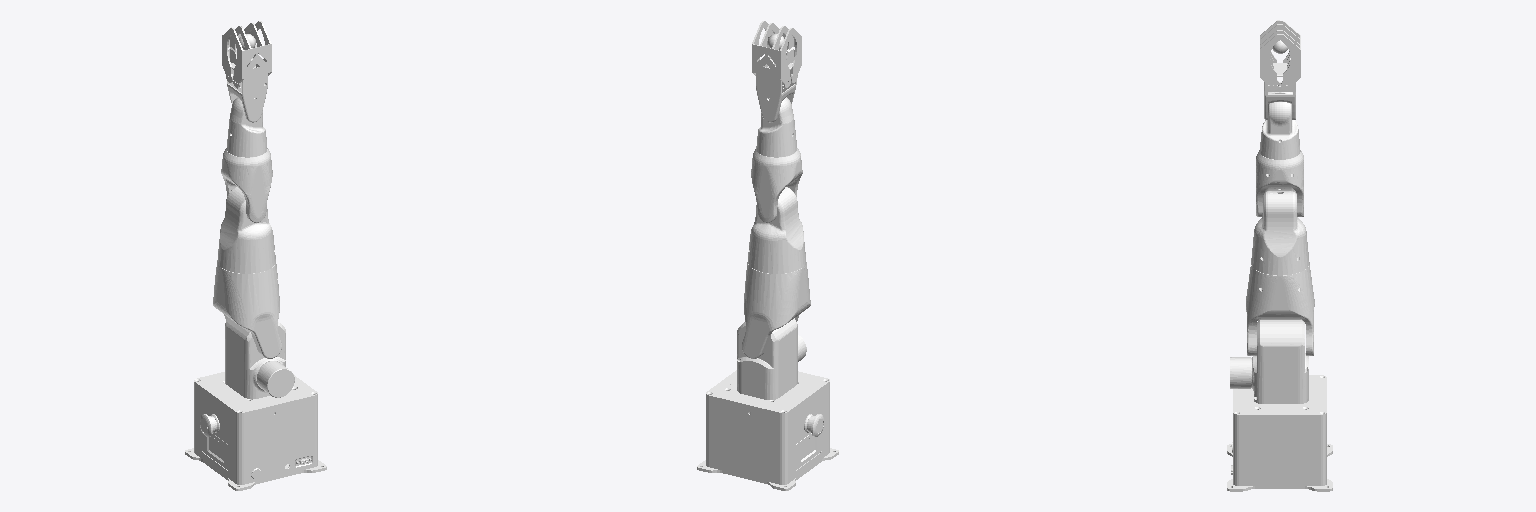
URDF robot description (darm):
<?xml version="1.0" encoding="utf-8"?>
<!-- This URDF was automatically created by SolidWorks to URDF Exporter! Originally created by [author] ([email redacted]) 
     Commit Version: 1.5.1-0-g916b5db  Build Version: 1.5.7152.31018
     For more information, please see http://wiki.ros.org/sw_urdf_exporter -->
<robot
  name="darm">
  <link
    name="base_link">
    <inertial>
      <origin
        xyz="-0.0170438376621442 -0.00161939260033202 0.0724948120416346"
        rpy="0 0 0" />
      <mass
        value="0.553260236209975" />
      <inertia
        ixx="0.0026064369657739"
        ixy="-3.75417322493413E-06"
        ixz="-0.000130251544119884"
        iyy="0.0030374528540518"
        iyz="-6.38538659319183E-05"
        izz="0.00326639522571418" />
    </inertial>
    <visual>
      <origin
        xyz="0 0 0"
        rpy="0 0 0" />
      <geometry>
        <mesh
          filename="package://darm/meshes/base_link.STL" />
      </geometry>
      <material
        name="">
        <color
          rgba="1 1 1 1" />
      </material>
    </visual>
    <collision>
      <origin
        xyz="0 0 0"
        rpy="0 0 0" />
      <geometry>
        <mesh
          filename="package://darm/meshes/base_link.STL" />
      </geometry>
    </collision>
  </link>
  <link
    name="arm_link1">
    <inertial>
      <origin
        xyz="-0.000128118597624595 -0.013600859873518 0.0619700515240474"
        rpy="0 0 0" />
      <mass
        value="0.116423492746118" />
      <inertia
        ixx="0.000383159534984"
        ixy="2.54107232372875E-07"
        ixz="-3.85780244490042E-07"
        iyy="0.000273038903011898"
        iyz="-3.95745103630226E-05"
        izz="0.000290856563695735" />
    </inertial>
    <visual>
      <origin
        xyz="0 0 0"
        rpy="0 0 0" />
      <geometry>
        <mesh
          filename="package://darm/meshes/arm_link1.STL" />
      </geometry>
      <material
        name="">
        <color
          rgba="1 1 1 1" />
      </material>
    </visual>
    <collision>
      <origin
        xyz="0 0 0"
        rpy="0 0 0" />
      <geometry>
        <mesh
          filename="package://darm/meshes/arm_link1.STL" />
      </geometry>
    </collision>
  </link>
  <joint
    name="arm_joint1"
    type="revolute">
    <origin
      xyz="0 0 0.1398"
      rpy="0 0 0" />
    <parent
      link="base_link" />
    <child
      link="arm_link1" />
    <axis
      xyz="0 0 -1" />
    <limit
      lower="-1.57"
      upper="1.57"
      effort="0"
      velocity="0" />
  </joint>
  <link
    name="arm_link2">
    <inertial>
      <origin
        xyz="-0.0167470721830778 0.0837012292062612 0.0494160246373337"
        rpy="0 0 0" />
      <mass
        value="0.13106183966175" />
      <inertia
        ixx="0.000452532131006666"
        ixy="1.7225875446078E-05"
        ixz="-5.65576192946032E-07"
        iyy="0.000314237741777992"
        iyz="3.03456757973936E-07"
        izz="0.000368104794036537" />
    </inertial>
    <visual>
      <origin
        xyz="0 0 0"
        rpy="0 0 0" />
      <geometry>
        <mesh
          filename="package://darm/meshes/arm_link2.STL" />
      </geometry>
      <material
        name="">
        <color
          rgba="1 1 1 1" />
      </material>
    </visual>
    <collision>
      <origin
        xyz="0 0 0"
        rpy="0 0 0" />
      <geometry>
        <mesh
          filename="package://darm/meshes/arm_link2.STL" />
      </geometry>
    </collision>
  </link>
  <joint
    name="arm_joint2"
    type="revolute">
    <origin
      xyz="0 0.05 0.095"
      rpy="1.5708 0 0" />
    <parent
      link="arm_link1" />
    <child
      link="arm_link2" />
    <axis
      xyz="0 0 1" />
    <limit
      lower="-1.92"
      upper="1.4"
      effort="0"
      velocity="0" />
  </joint>
  <link
    name="arm_link3">
    <inertial>
      <origin
        xyz="8.14220214549778E-05 -2.55521254908583E-05 0.0513480682450201"
        rpy="0 0 0" />
      <mass
        value="0.086404289942178" />
      <inertia
        ixx="0.00019238332088768"
        ixy="9.37345781486257E-10"
        ixz="-9.86128909629744E-07"
        iyy="0.000179094376632573"
        iyz="5.16398573265577E-08"
        izz="0.000133516037906134" />
    </inertial>
    <visual>
      <origin
        xyz="0 0 0"
        rpy="0 0 0" />
      <geometry>
        <mesh
          filename="package://darm/meshes/arm_link3.STL" />
      </geometry>
      <material
        name="">
        <color
          rgba="1 1 1 1" />
      </material>
    </visual>
    <collision>
      <origin
        xyz="0 0 0"
        rpy="0 0 0" />
      <geometry>
        <mesh
          filename="package://darm/meshes/arm_link3.STL" />
      </geometry>
    </collision>
  </link>
  <joint
    name="arm_joint3"
    type="revolute">
    <origin
      xyz="-0.0185 0.145 0.0495"
      rpy="-1.5708 0 0" />
    <parent
      link="arm_link2" />
    <child
      link="arm_link3" />
    <axis
      xyz="0 0 -1" />
    <limit
      lower="-2"
      upper="2"
      effort="0"
      velocity="0" />
  </joint>
  <link
    name="arm_link4">
    <inertial>
      <origin
        xyz="-0.000397266371060974 0.0598499691331028 0.0332505816207749"
        rpy="0 0 0" />
      <mass
        value="0.0706309208099729" />
      <inertia
        ixx="0.000125455196294012"
        ixy="4.89969471646502E-07"
        ixz="1.48744519872573E-11"
        iyy="9.24064014654882E-05"
        iyz="-1.65705397681498E-09"
        izz="0.00010157515036857" />
    </inertial>
    <visual>
      <origin
        xyz="0 0 0"
        rpy="0 0 0" />
      <geometry>
        <mesh
          filename="package://darm/meshes/arm_link4.STL" />
      </geometry>
      <material
        name="">
        <color
          rgba="1 1 1 1" />
      </material>
    </visual>
    <collision>
      <origin
        xyz="0 0 0"
        rpy="0 0 0" />
      <geometry>
        <mesh
          filename="package://darm/meshes/arm_link4.STL" />
      </geometry>
    </collision>
  </link>
  <joint
    name="arm_joint4"
    type="revolute">
    <origin
      xyz="0.0005 0.033 0.105"
      rpy="1.5708 0 0" />
    <parent
      link="arm_link3" />
    <child
      link="arm_link4" />
    <axis
      xyz="0 0 1" />
    <limit
      lower="-1.57"
      upper="1.57"
      effort="0"
      velocity="0" />
  </joint>
  <link
    name="arm_link5">
    <inertial>
      <origin
        xyz="-0.000727167883412056 1.56292209022133E-07 0.0448838742871538"
        rpy="0 0 0" />
      <mass
        value="0.0364674809635235" />
      <inertia
        ixx="4.04278205884715E-05"
        ixy="-4.07023183502984E-11"
        ixz="4.60079695225723E-07"
        iyy="4.23703736642409E-05"
        iyz="-1.25762158698788E-11"
        izz="2.78990988682426E-05" />
    </inertial>
    <visual>
      <origin
        xyz="0 0 0"
        rpy="0 0 0" />
      <geometry>
        <mesh
          filename="package://darm/meshes/arm_link5.STL" />
      </geometry>
      <material
        name="">
        <color
          rgba="1 1 1 1" />
      </material>
    </visual>
    <collision>
      <origin
        xyz="0 0 0"
        rpy="0 0 0" />
      <geometry>
        <mesh
          filename="package://darm/meshes/arm_link5.STL" />
      </geometry>
    </collision>
  </link>
  <joint
    name="arm_joint5"
    type="revolute">
    <origin
      xyz="0.00051471 0.105 0.03325"
      rpy="-1.5708 0 -0.004902" />
    <parent
      link="arm_link4" />
    <child
      link="arm_link5" />
    <axis
      xyz="0 0 -1" />
    <limit
      lower="-2"
      upper="2"
      effort="0"
      velocity="0" />
  </joint>
  <link
    name="arm_link6">
    <inertial>
      <origin
        xyz="0.00213188955016766 0.0459939849274835 0.0209144934053668"
        rpy="0 0 0" />
      <mass
        value="0.0283301622794919" />
      <inertia
        ixx="3.08264693220698E-05"
        ixy="-4.86665976397017E-07"
        ixz="1.45743977499393E-07"
        iyy="2.03804574554996E-05"
        iyz="4.96221959166978E-08"
        izz="2.47043306516181E-05" />
    </inertial>
    <visual>
      <origin
        xyz="0 0 0"
        rpy="0 0 0" />
      <geometry>
        <mesh
          filename="package://darm/meshes/arm_link6.STL" />
      </geometry>
      <material
        name="">
        <color
          rgba="1 1 1 1" />
      </material>
    </visual>
    <collision>
      <origin
        xyz="0 0 0"
        rpy="0 0 0" />
      <geometry>
        <mesh
          filename="package://darm/meshes/arm_link6.STL" />
      </geometry>
    </collision>
  </link>
  <joint
    name="arm_joint6"
    type="revolute">
    <origin
      xyz="0 0.0215 0.075"
      rpy="1.5708 -0.004902 0" />
    <parent
      link="arm_link5" />
    <child
      link="arm_link6" />
    <axis
      xyz="0 0 1" />
    <limit
      lower="-1.57"
      upper="0.52"
      effort="0"
      velocity="0" />
  </joint>
  <link
    name="gipper_link1">
    <inertial>
      <origin
        xyz="-0.010164529829209 -0.0428625582773113 -0.0290009634440926"
        rpy="0 0 0" />
      <mass
        value="0.0229473565168191" />
      <inertia
        ixx="2.67319833363079E-05"
        ixy="5.28739561760064E-07"
        ixz="4.53208934357424E-10"
        iyy="1.30658365460368E-05"
        iyz="8.86316306994805E-10"
        izz="1.74706100511411E-05" />
    </inertial>
    <visual>
      <origin
        xyz="0 0 0"
        rpy="0 0 0" />
      <geometry>
        <mesh
          filename="package://darm/meshes/gipper_link1.STL" />
      </geometry>
      <material
        name="">
        <color
          rgba="1 1 1 1" />
      </material>
    </visual>
    <collision>
      <origin
        xyz="0 0 0"
        rpy="0 0 0" />
      <geometry>
        <mesh
          filename="package://darm/meshes/gipper_link1.STL" />
      </geometry>
    </collision>
  </link>
  <joint
    name="gipper_jiont1"
    type="revolute">
    <origin
      xyz="-0.029493 0.062645 0.03295"
      rpy="3.1367 1.5708 0" />
    <parent
      link="arm_link6" />
    <child
      link="gipper_link1" />
    <axis
      xyz="0 0 -1" />
    <limit
      lower="0"
      upper="1.57"
      effort="0"
      velocity="0" />
  </joint>
  <link
    name="gipper_link2">
    <inertial>
      <origin
        xyz="-0.0101244857399807 -0.0426966769105175 0.0289990675316095"
        rpy="0 0 0" />
      <mass
        value="0.0230365589670101" />
      <inertia
        ixx="2.69624656070297E-05"
        ixy="4.89378228982721E-07"
        ixz="4.53308989647818E-10"
        iyy="1.31475134895181E-05"
        iyz="9.01986586877508E-10"
        izz="1.76482216371948E-05" />
    </inertial>
    <visual>
      <origin
        xyz="0 0 0"
        rpy="0 0 0" />
      <geometry>
        <mesh
          filename="package://darm/meshes/gipper_link2.STL" />
      </geometry>
      <material
        name="">
        <color
          rgba="1 1 1 1" />
      </material>
    </visual>
    <collision>
      <origin
        xyz="0 0 0"
        rpy="0 0 0" />
      <geometry>
        <mesh
          filename="package://darm/meshes/gipper_link2.STL" />
      </geometry>
    </collision>
  </link>
  <joint
    name="gipper_joint2"
    type="revolute">
    <origin
      xyz="-0.029493 0.062645 0.00945"
      rpy="3.1415926 -1.5707 0" />
    <parent
      link="arm_link6" />
    <child
      link="gipper_link2" />
    <axis
      xyz="0 0 -1" />
    <limit
      lower="0"
      upper="1.57"
      effort="0"
      velocity="0" />
  </joint>
  <link
    name="gipper_centor_link">
    <inertial>
      <origin
        xyz="-4.33680868994202E-19 0 -3.46944695195361E-18"
        rpy="0 0 0" />
      <mass
        value="0.0141371669411541" />
      <inertia
        ixx="1.27234502470387E-06"
        ixy="-1.27447352890596E-54"
        ixz="0"
        iyy="1.27234502470387E-06"
        iyz="2.69927074778492E-39"
        izz="1.27234502470387E-06" />
    </inertial>
    <visual>
      <origin
        xyz="0 0 0"
        rpy="0 0 0" />
      <geometry>
        <mesh
          filename="package://darm/meshes/gipper_centor_link.STL" />
      </geometry>
      <material
        name="">
        <color
          rgba="1 1 1 1" />
      </material>
    </visual>
    <collision>
      <origin
        xyz="0 0 0"
        rpy="0 0 0" />
      <geometry>
        <mesh
          filename="package://darm/meshes/gipper_centor_link.STL" />
      </geometry>
    </collision>
  </link>
  <joint
    name="gipper_centor_joint"
    type="fixed">
    <origin
      xyz="-0.0001869 0.12514 0.0212"
      rpy="3.1416 1.5708 0" />
    <parent
      link="arm_link6" />
    <child
      link="gipper_centor_link" />
    <axis
      xyz="0 0 0" />
  </joint>
</robot>

--- Render facts (derived) ---
Views: 3 orthographic renders of the robot side by side, from view 1: azimuth 30°, elevation 25°; view 2: azimuth 150°, elevation 25°; view 3: azimuth 270°, elevation 25°.
Model darm with 10 links and 9 joints (8 revolute, 1 fixed), rooted at base_link, posed all joints at 0.
Links seen in each view (by area): view 1: base_link, arm_link2, arm_link1, arm_link3, arm_link4, arm_link5, gipper_link1, arm_link6, gipper_link2; view 2: base_link, arm_link2, arm_link1, arm_link3, arm_link4, arm_link5, gipper_link2, arm_link6, gipper_link1; view 3: base_link, arm_link1, arm_link3, arm_link2, arm_link4, arm_link5, gipper_link2, gipper_link1, arm_link6.
Boxes of the visible links, x1,y1,x2,y2 form: base_link: (185, 372, 326, 490); arm_link2: (213, 263, 281, 358); arm_link1: (225, 317, 294, 398); arm_link3: (217, 187, 275, 273); arm_link4: (221, 148, 272, 222); arm_link5: (227, 97, 267, 157); gipper_link1: (232, 22, 271, 87); arm_link6: (227, 58, 267, 122); gipper_link2: (222, 21, 261, 82); base_link: (697, 370, 838, 490); arm_link2: (742, 262, 810, 358); arm_link1: (737, 318, 806, 399); arm_link3: (748, 187, 805, 273); arm_link4: (751, 148, 802, 222); arm_link5: (756, 97, 796, 157); gipper_link2: (752, 22, 791, 87); arm_link6: (756, 59, 796, 122); gipper_link1: (762, 21, 801, 82); base_link: (1227, 375, 1332, 491); arm_link1: (1230, 320, 1308, 403); arm_link3: (1251, 191, 1309, 275); arm_link2: (1246, 264, 1314, 355); arm_link4: (1256, 150, 1303, 216); arm_link5: (1260, 102, 1300, 159); gipper_link2: (1280, 21, 1300, 90); gipper_link1: (1260, 20, 1279, 90); arm_link6: (1264, 63, 1295, 119).
Size in the robot's own frame: 0.192 by 0.18 by 0.8227 metres.
Meshes: 10 distinct files referenced, 10 mesh visuals loaded (10 binary STL).